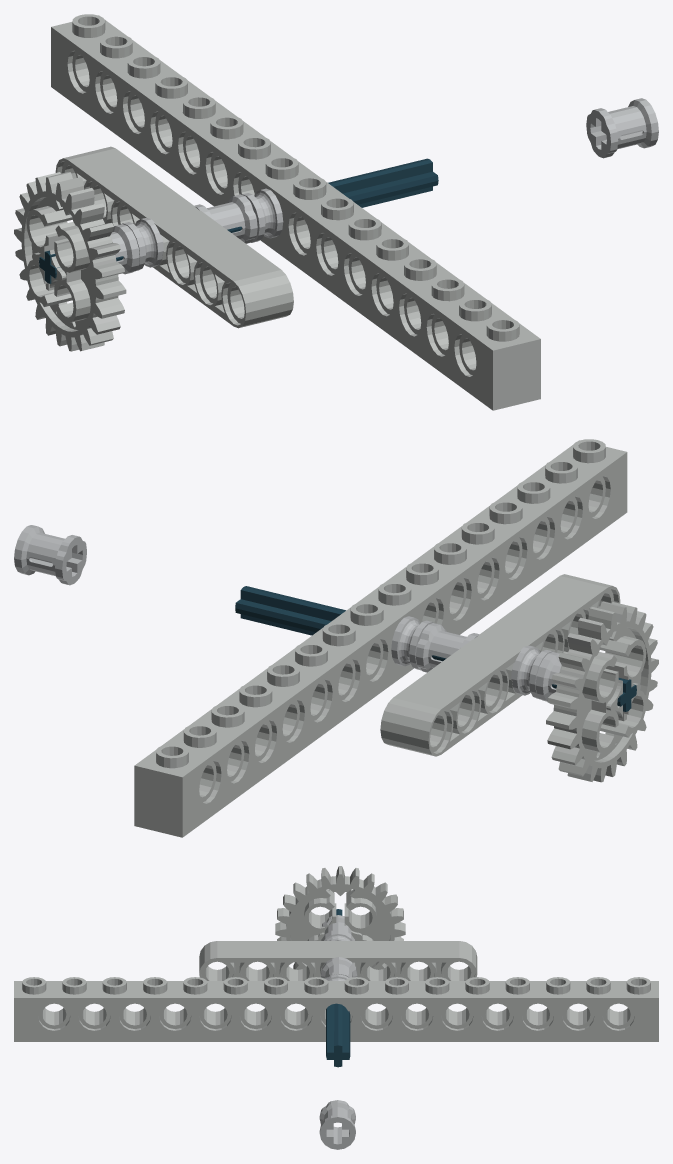
3 renders of one model, top to bottom at view 1: azimuth 30°, elevation 25°; view 2: azimuth 150°, elevation 25°; view 3: azimuth 270°, elevation 25°, orthographic. The views are drawn at different scales.
Visible parts, largest first — view 1: Piece004, Piece005, Piece000, Piece006, Piece003, Piece002, Piece008, Piece007, Piece001; view 2: Piece004, Piece005, Piece000, Piece006, Piece003, Piece002, Piece008, Piece007, Piece001; view 3: Piece004, Piece005, Piece000, Piece003, Piece006, Piece002.
Part boxes in pixels (x1,y1,x2,y2): Piece004: (51, 14, 540, 410); Piece005: (55, 146, 293, 328); Piece000: (14, 172, 126, 351); Piece006: (39, 158, 438, 283); Piece003: (586, 98, 658, 158); Piece002: (194, 194, 257, 243); Piece008: (242, 188, 283, 242); Piece007: (121, 218, 163, 271); Piece001: (111, 224, 139, 274); Piece004: (134, 439, 627, 837); Piece005: (380, 574, 620, 756); Piece000: (546, 601, 658, 782); Piece006: (235, 586, 636, 711); Piece003: (14, 525, 86, 585); Piece002: (415, 623, 479, 672); Piece008: (391, 616, 434, 670); Piece007: (511, 645, 553, 699); Piece001: (535, 652, 561, 701); Piece004: (14, 977, 658, 1041); Piece005: (199, 941, 477, 980); Piece000: (275, 866, 405, 969); Piece003: (319, 1100, 355, 1149); Piece006: (326, 909, 350, 1067); Piece002: (321, 957, 357, 978).
Bounding box in the file's own units: 250 × 64.79 × 320.
